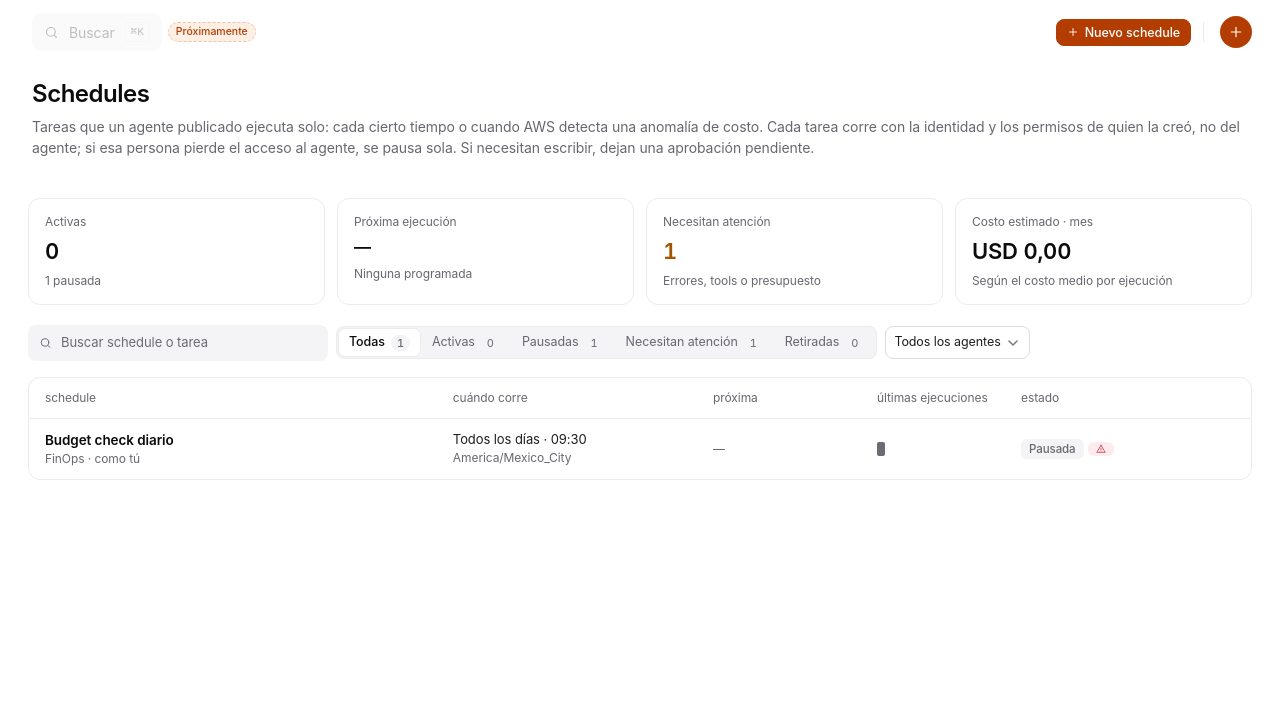
Test: SchedulesPage › a task whose owner lost access says so and cannot be resumed nor run
Click the text "Budget check diario".
click(109, 440)  # box left=45, top=432, right=174, bottom=448
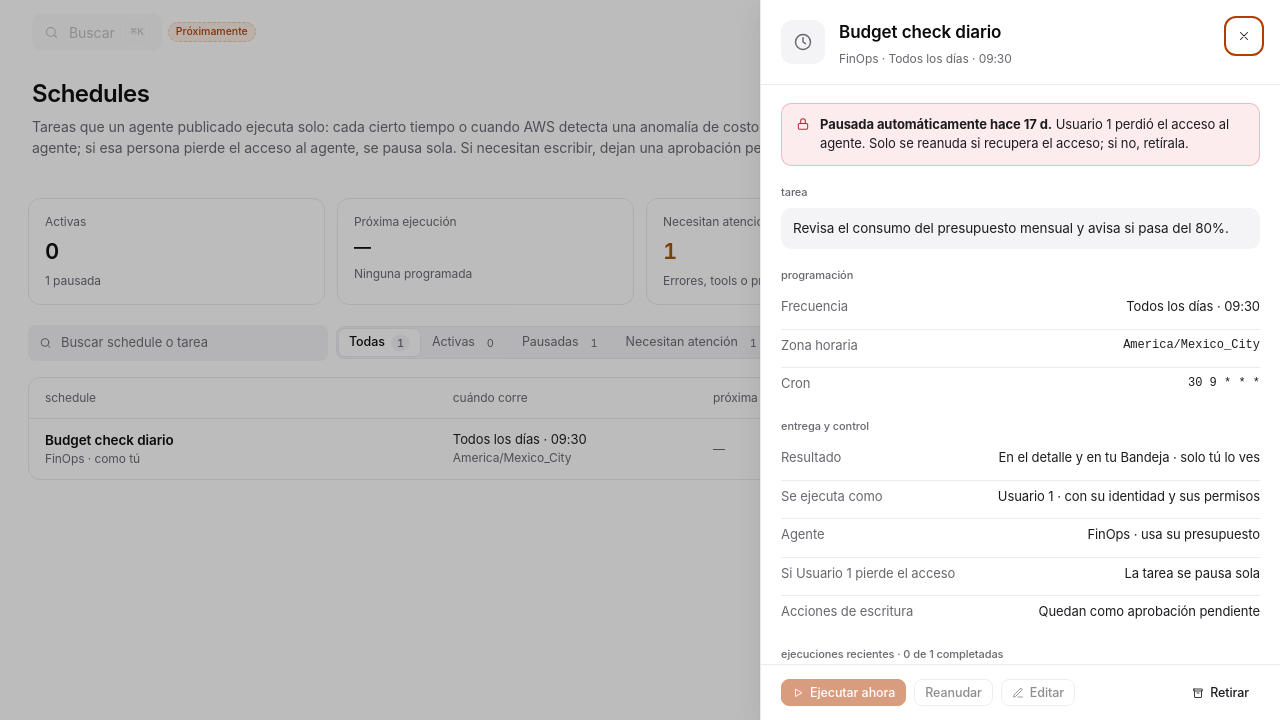
Now the text "Pausada automáticamente hace 17 d." is shown, box left=820, top=116, right=1052, bottom=132
Now the button "Ejecutar ahora" is disabled, box left=781, top=679, right=906, bottom=706
Now the button "Reanudar" is disabled, box left=914, top=679, right=993, bottom=706
